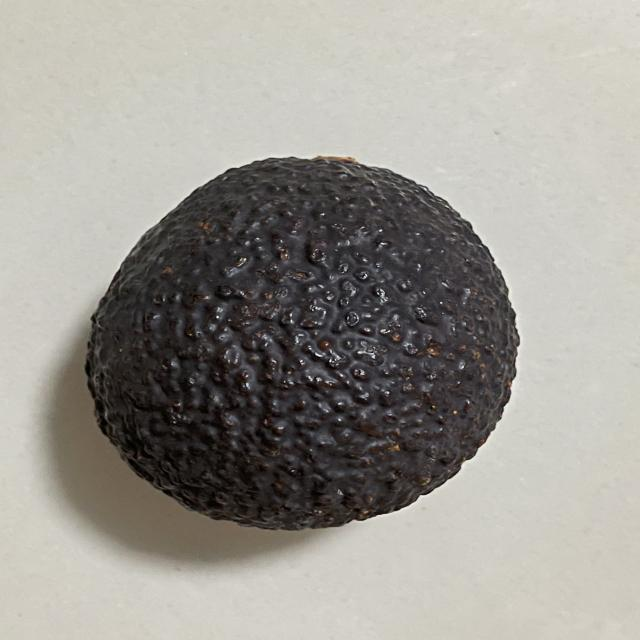Level3: (76, 148, 531, 536)
